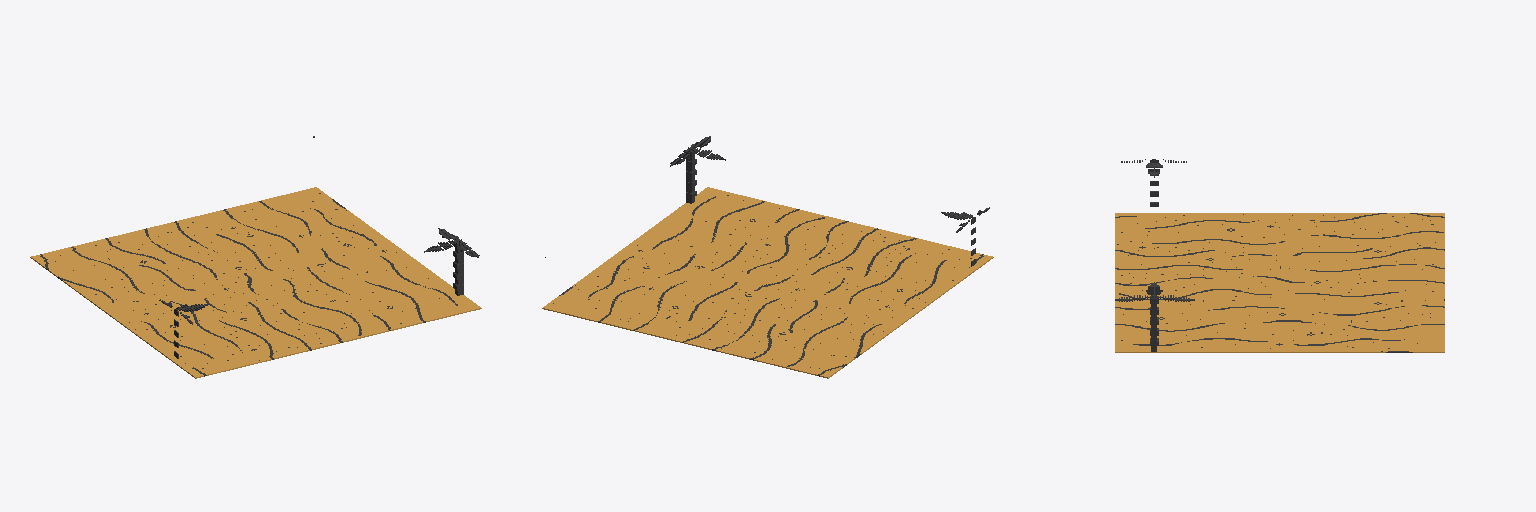
3 renders of one model, left to right at view 1: azimuth 30°, elevation 25°; view 2: azimuth 150°, elevation 25°; view 3: azimuth 270°, elevation 25°, orthographic.
Visible parts, largest first — view 1: object 1; view 2: object 1; view 3: object 1.
Boxes of the visible parts, box(x1,y1,x2,y2) form: object 1: box(30, 136, 481, 378); object 1: box(542, 136, 993, 378); object 1: box(1115, 159, 1444, 352).
Size of the model in its own units: 25.6 by 4.7 by 25.6.
1 materials, 1 textured.